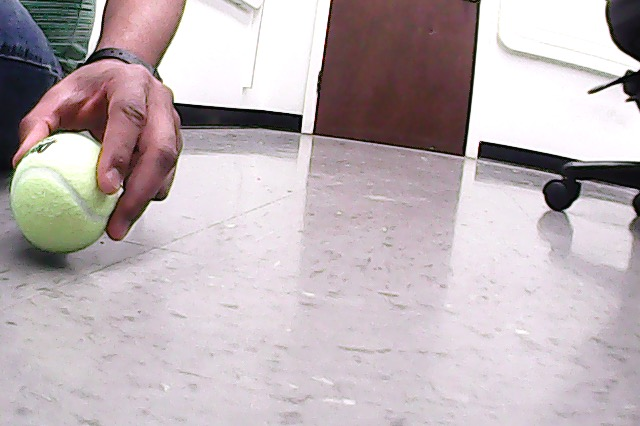ball: (13, 134, 118, 252)
